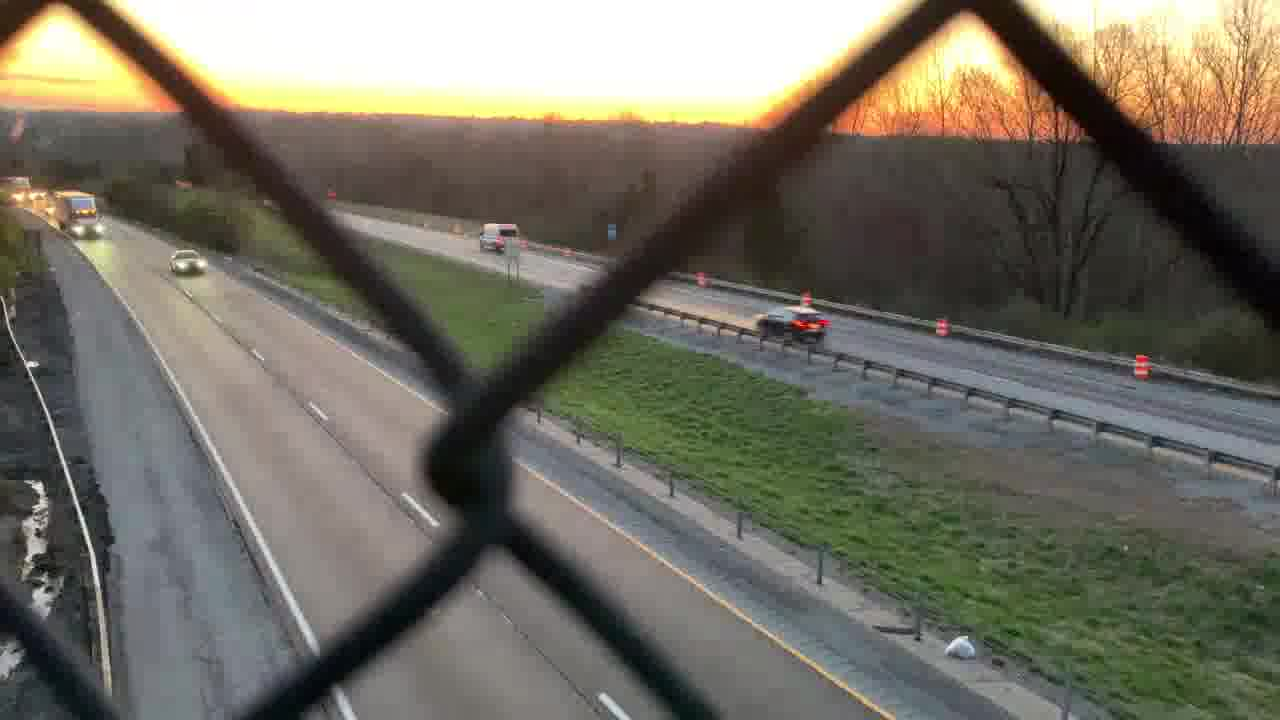heavyTruck: (57, 186, 100, 241)
largeCar: (745, 301, 835, 345), (470, 211, 527, 257)
smallCar: (166, 242, 206, 281)
vehicle: (6, 168, 32, 196), (25, 182, 50, 203)
